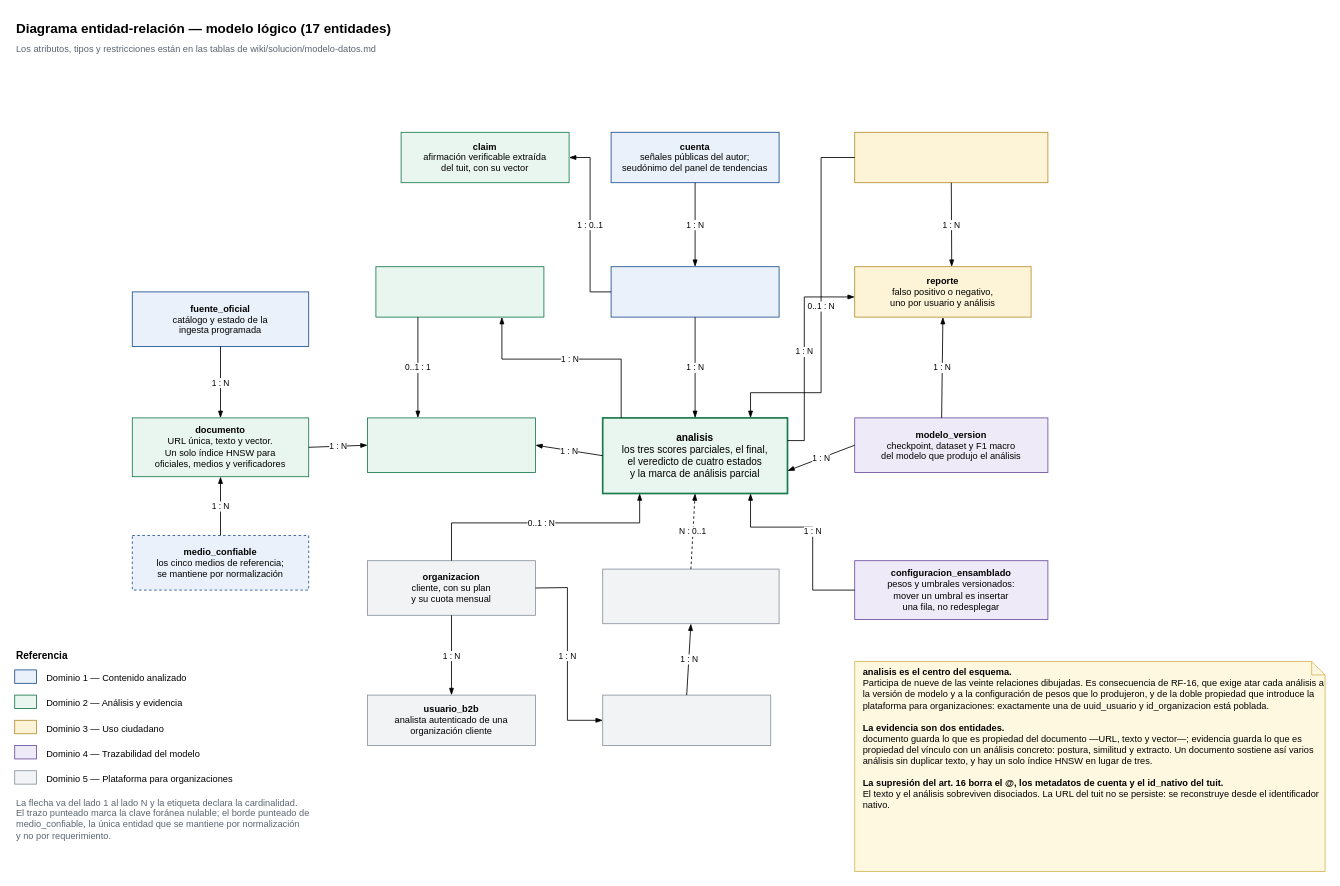
Image size: 1340x886. Some labels were removed from this diagram. Each missing label, with the centre of its shape:
"api_key clave hasheada, con prefijo en claro y revocación" goes at point 686,720.
"consumo_api registro de cada llamada contra la cuota" goes at point 690,596.
"evidencia tabla puente: postura, similitud y extracto" goes at point 451,444.
"razon justificación en lenguaje natural, ordenada" goes at point 459,291.
"tuit texto, métricas y captura; la URL no se persiste" goes at point 694,291.
"usuario_extension UUID generado localmente y fecha de instalación" goes at point 951,157.
